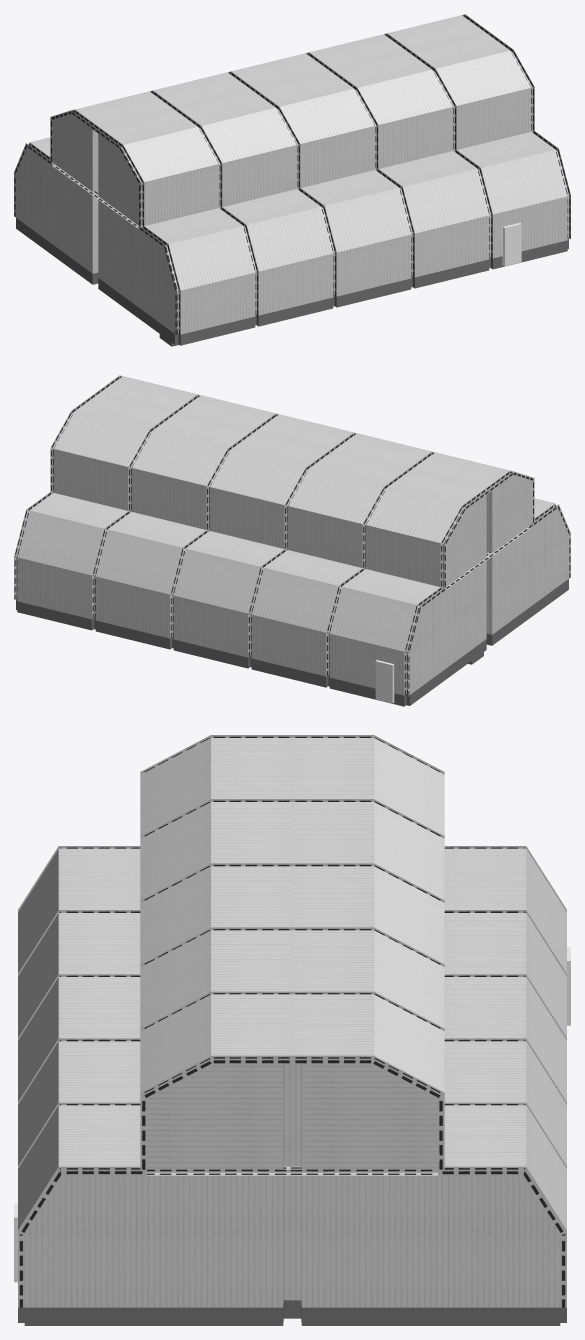
File: Warehouse.fbx
3 renders of one model, top to bottom at view 1: azimuth 30°, elevation 25°; view 2: azimuth 150°, elevation 25°; view 3: azimuth 270°, elevation 25°, orthographic. The views are drawn at different scales.
Parts seen in each view (by area): view 1: Material2.001, Material2.002, Material2.003, Material2.004; view 2: Material2.001, Material2.002, Material2.003, Material2.004; view 3: Material2.001, Material2.002, Material2.003.
Boxes of the visible parts, <box> form: Material2.001: <box>16,15,567,334</box>; Material2.002: <box>14,14,570,335</box>; Material2.003: <box>16,218,568,346</box>; Material2.004: <box>163,66,521,266</box>; Material2.001: <box>17,376,568,695</box>; Material2.002: <box>14,375,570,696</box>; Material2.003: <box>16,579,568,706</box>; Material2.004: <box>375,659,394,703</box>; Material2.001: <box>18,738,566,1307</box>; Material2.002: <box>18,735,566,1307</box>; Material2.003: <box>18,1300,566,1325</box>.
Bounding box in the file's own units: 901 × 443 × 655.
Materials: 8 (3 with a texture image).
